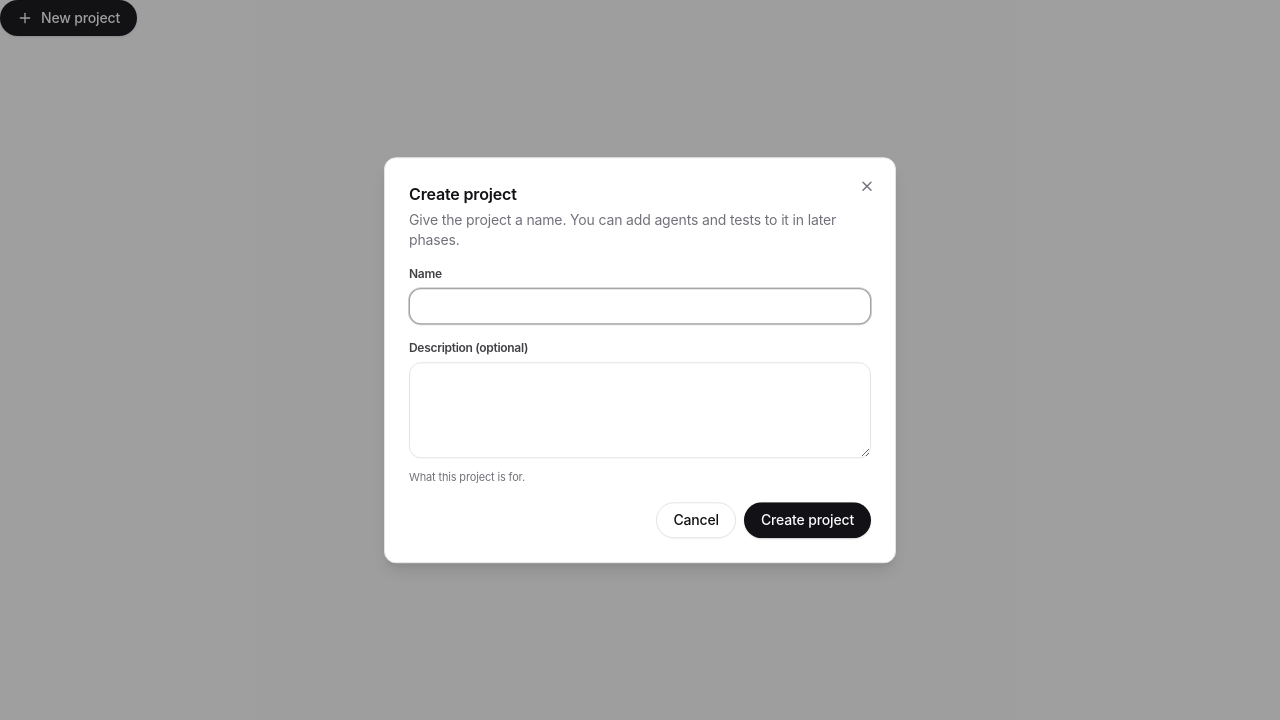
Test: CreateProjectDialog › shows server-side field errors such as a duplicate name
In the field labelled "Name": (640, 306) [409,288,871,324], type "Dup"
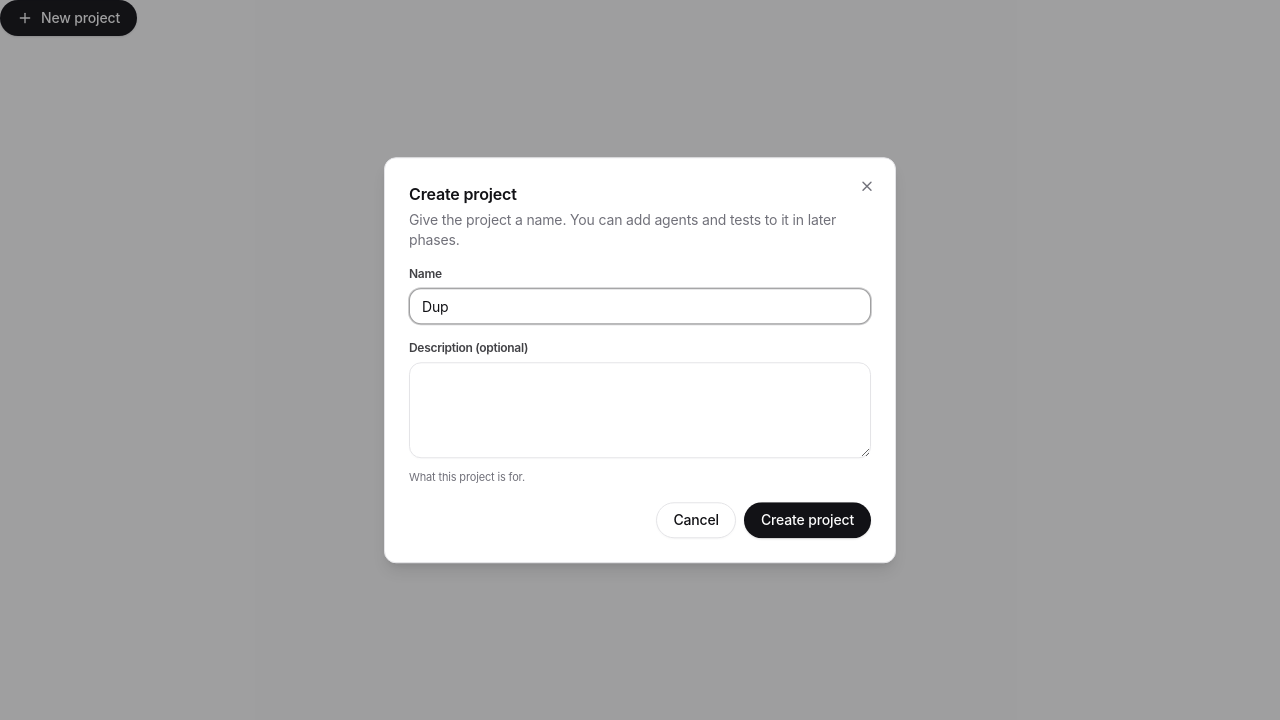
Click the button "Create project": click(808, 520) [744,502,871,538]
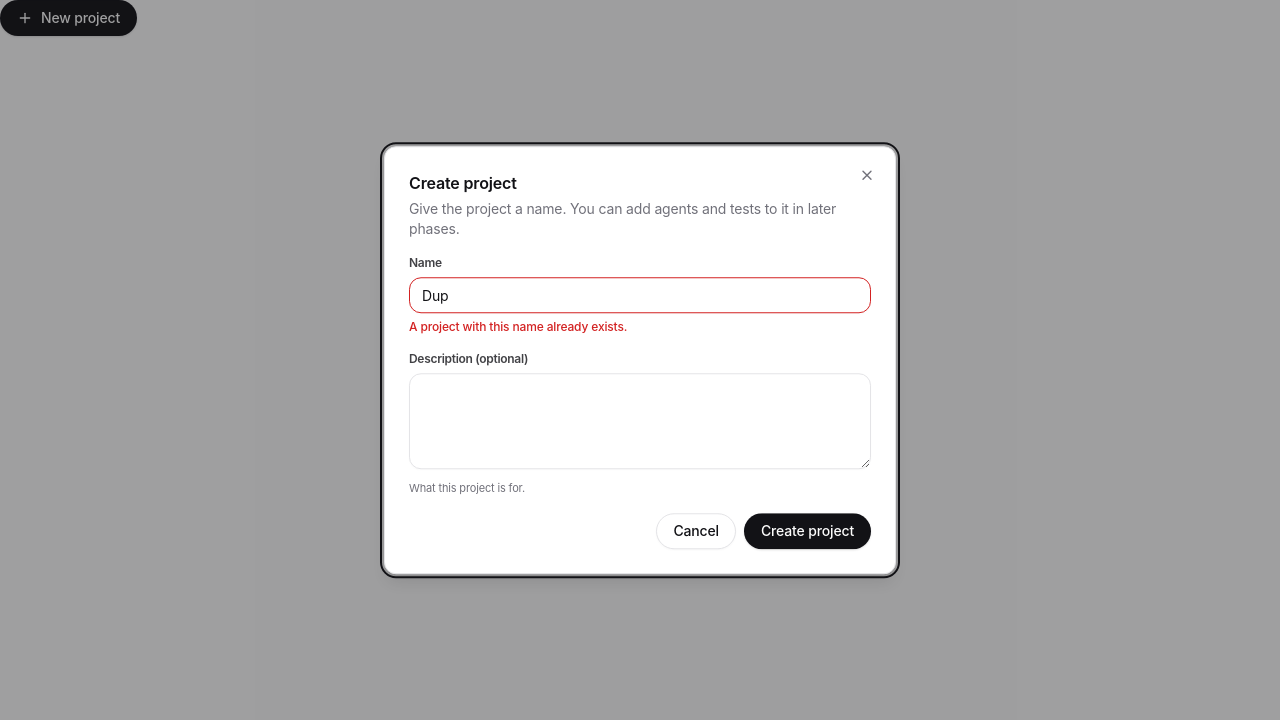
Result: the text "A project with this name already exists." is shown at [409,319,627,334]
